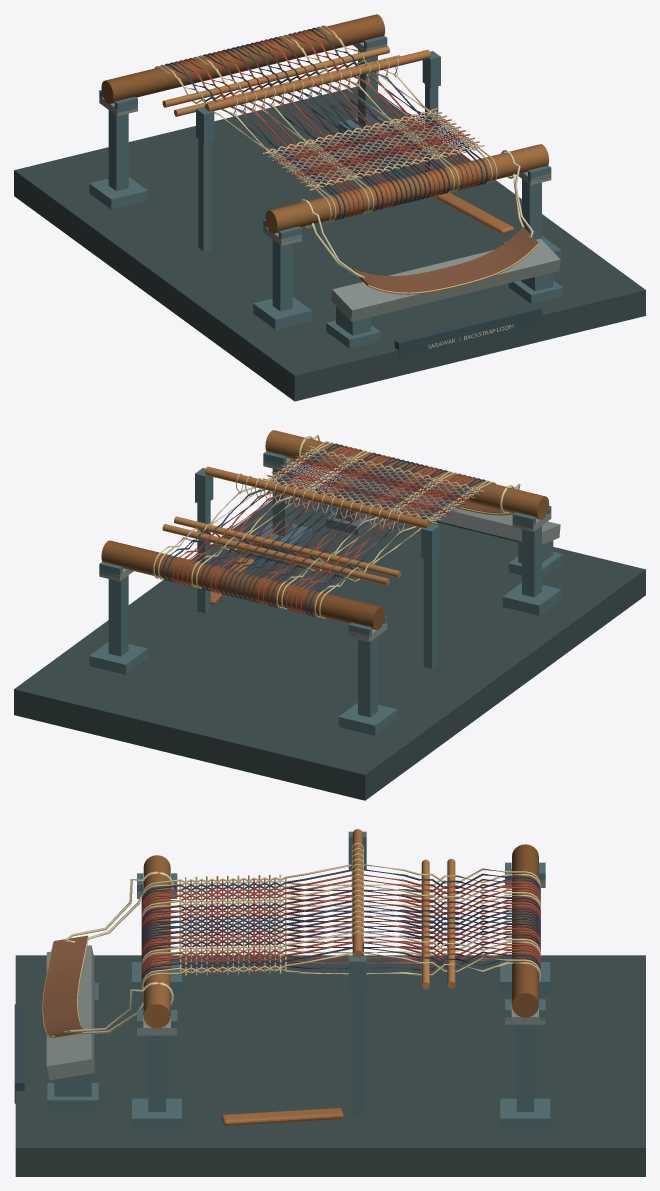
File: sarawak-iban-backstrap-loom-display.glb
The picture shows the model from 3 angles, top to bottom: view 1: azimuth 30°, elevation 25°; view 2: azimuth 150°, elevation 25°; view 3: azimuth 270°, elevation 25°; orthographic projection. The views are drawn at different scales.
Parts seen in each view (by area): view 1: Textured display plinth, clearly not a loom frame, Wood warp beam, rear anchor, Wood breast beam with individually rounded edges, Independent lower padded display strap rest, Wide curved open backstrap with structural thickness, Separate low exhibit label, Raised hardwood heddle rod, Second slender wooden crosspiece, Independent rear exhibit upright, Display pedestal for heddle side holder.001, Independent front exhibit upright, Independent rear display foot (+11 smaller); view 2: Textured display plinth, clearly not a loom frame, Wood warp beam, rear anchor, Wood breast beam with individually rounded edges, Independent lower padded display strap rest, Raised hardwood heddle rod, Second slender wooden crosspiece, First slender wooden crosspiece, Independent rear exhibit upright.001, Display pedestal for heddle side holder.001, Independent rear exhibit upright, Independent front exhibit upright, Independent front display foot (+8 smaller); view 3: Textured display plinth, clearly not a loom frame, Wood warp beam, rear anchor, Wide curved open backstrap with structural thickness, Independent lower padded display strap rest, Wood breast beam with individually rounded edges, Independent rear exhibit upright.001, Display pedestal for heddle side holder, Distinct bevel-edged beater resting beside swatch, Independent rear display foot.001, Independent front exhibit upright.001, Independent front display foot.001, Raised hardwood heddle rod (+46 smaller).
Part boxes in pixels (x1,y1,x2,y2): Textured display plinth, clearly not a loom frame: [14, 86, 645, 401]; Wood warp beam, rear anchor: [101, 14, 385, 103]; Wood breast beam with individually rounded edges: [265, 144, 549, 233]; Independent lower padded display strap rest: [331, 238, 560, 321]; Wide curved open backstrap with structural thickness: [352, 227, 538, 294]; Separate low exhibit label: [394, 305, 542, 361]; Raised hardwood heddle rod: [205, 50, 430, 111]; Second slender wooden crosspiece: [162, 46, 389, 107]; Independent rear exhibit upright: [108, 110, 128, 191]; Display pedestal for heddle side holder.001: [198, 139, 211, 251]; Independent front exhibit upright: [272, 240, 292, 311]; Independent rear display foot: [89, 177, 147, 209]; Textured display plinth, clearly not a loom frame: [14, 485, 645, 800]; Wood warp beam, rear anchor: [101, 540, 384, 630]; Wood breast beam with individually rounded edges: [265, 430, 549, 519]; Independent lower padded display strap rest: [332, 475, 560, 544]; Raised hardwood heddle rod: [205, 466, 430, 528]; Second slender wooden crosspiece: [162, 524, 389, 585]; First slender wooden crosspiece: [174, 516, 401, 577]; Independent rear exhibit upright.001: [108, 575, 128, 656]; Display pedestal for heddle side holder.001: [423, 556, 436, 668]; Independent rear exhibit upright: [358, 636, 377, 717]; Independent front exhibit upright: [522, 526, 541, 597]; Independent front display foot: [502, 583, 561, 615]; Textured display plinth, clearly not a loom frame: [15, 955, 645, 1176]; Wood warp beam, rear anchor: [512, 844, 538, 1017]; Wide curved open backstrap with structural thickness: [43, 935, 87, 1037]; Independent lower padded display strap rest: [46, 945, 94, 1080]; Wood breast beam with individually rounded edges: [143, 855, 170, 1028]; Independent rear exhibit upright.001: [516, 1024, 533, 1111]; Display pedestal for heddle side holder: [352, 993, 363, 1116]; Distinct bevel-edged beater resting beside swatch: [221, 1108, 343, 1125]; Independent rear display foot.001: [500, 1098, 550, 1129]; Independent front exhibit upright.001: [148, 1035, 165, 1111]; Independent front display foot.001: [132, 1098, 181, 1129]; Raised hardwood heddle rod: [352, 829, 362, 956].
Size of the model in its own units: 0.91 by 0.4237 by 1.26.
